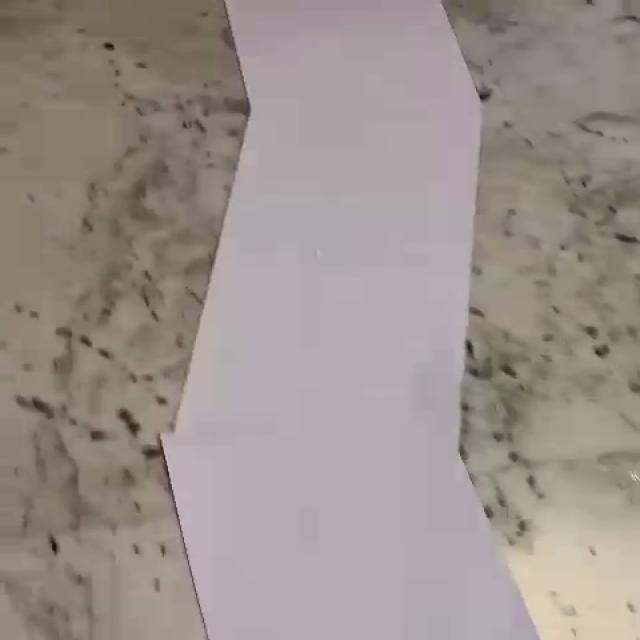road: (163, 0, 539, 640)
